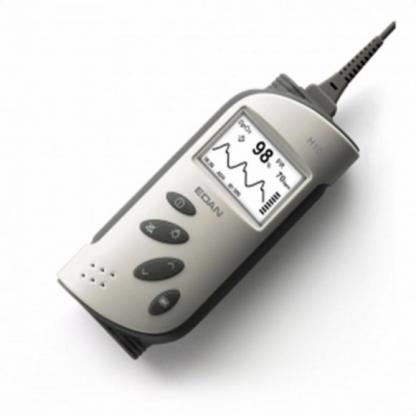Displays: (200, 112, 306, 225)
